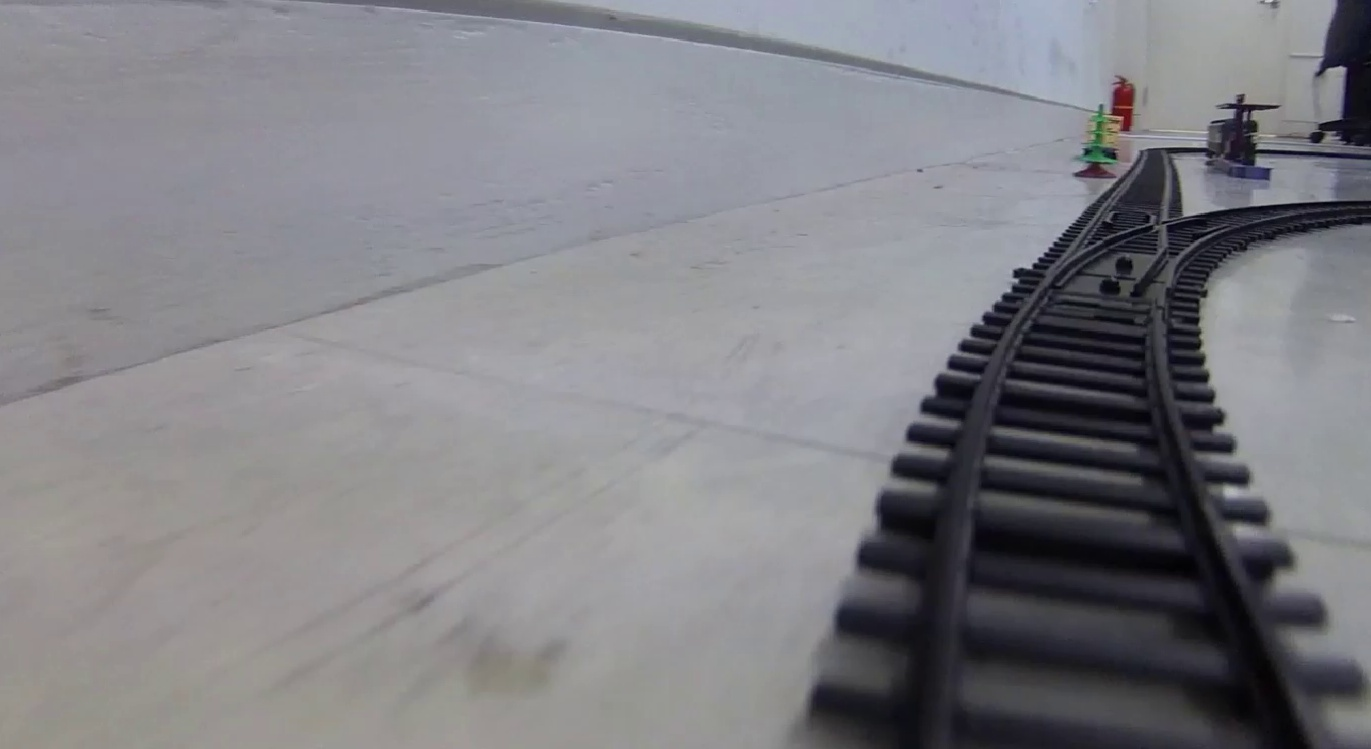tree: (1075, 104, 1120, 181)
